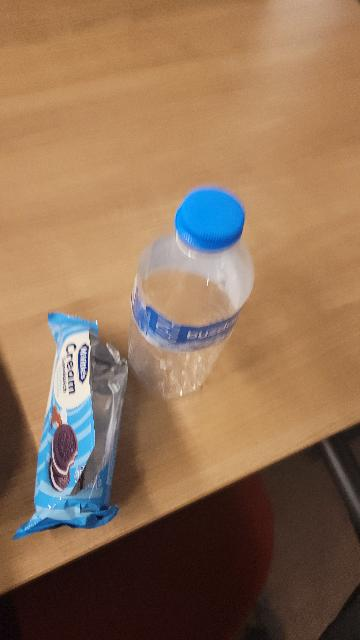Plastik: (129, 187, 260, 410), (26, 310, 125, 543)
